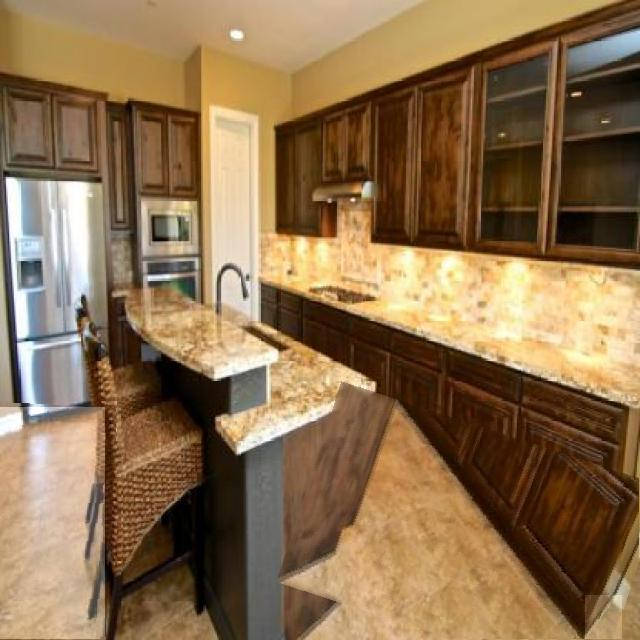floor: (279, 399, 586, 640), (0, 408, 105, 640), (586, 595, 622, 640)
